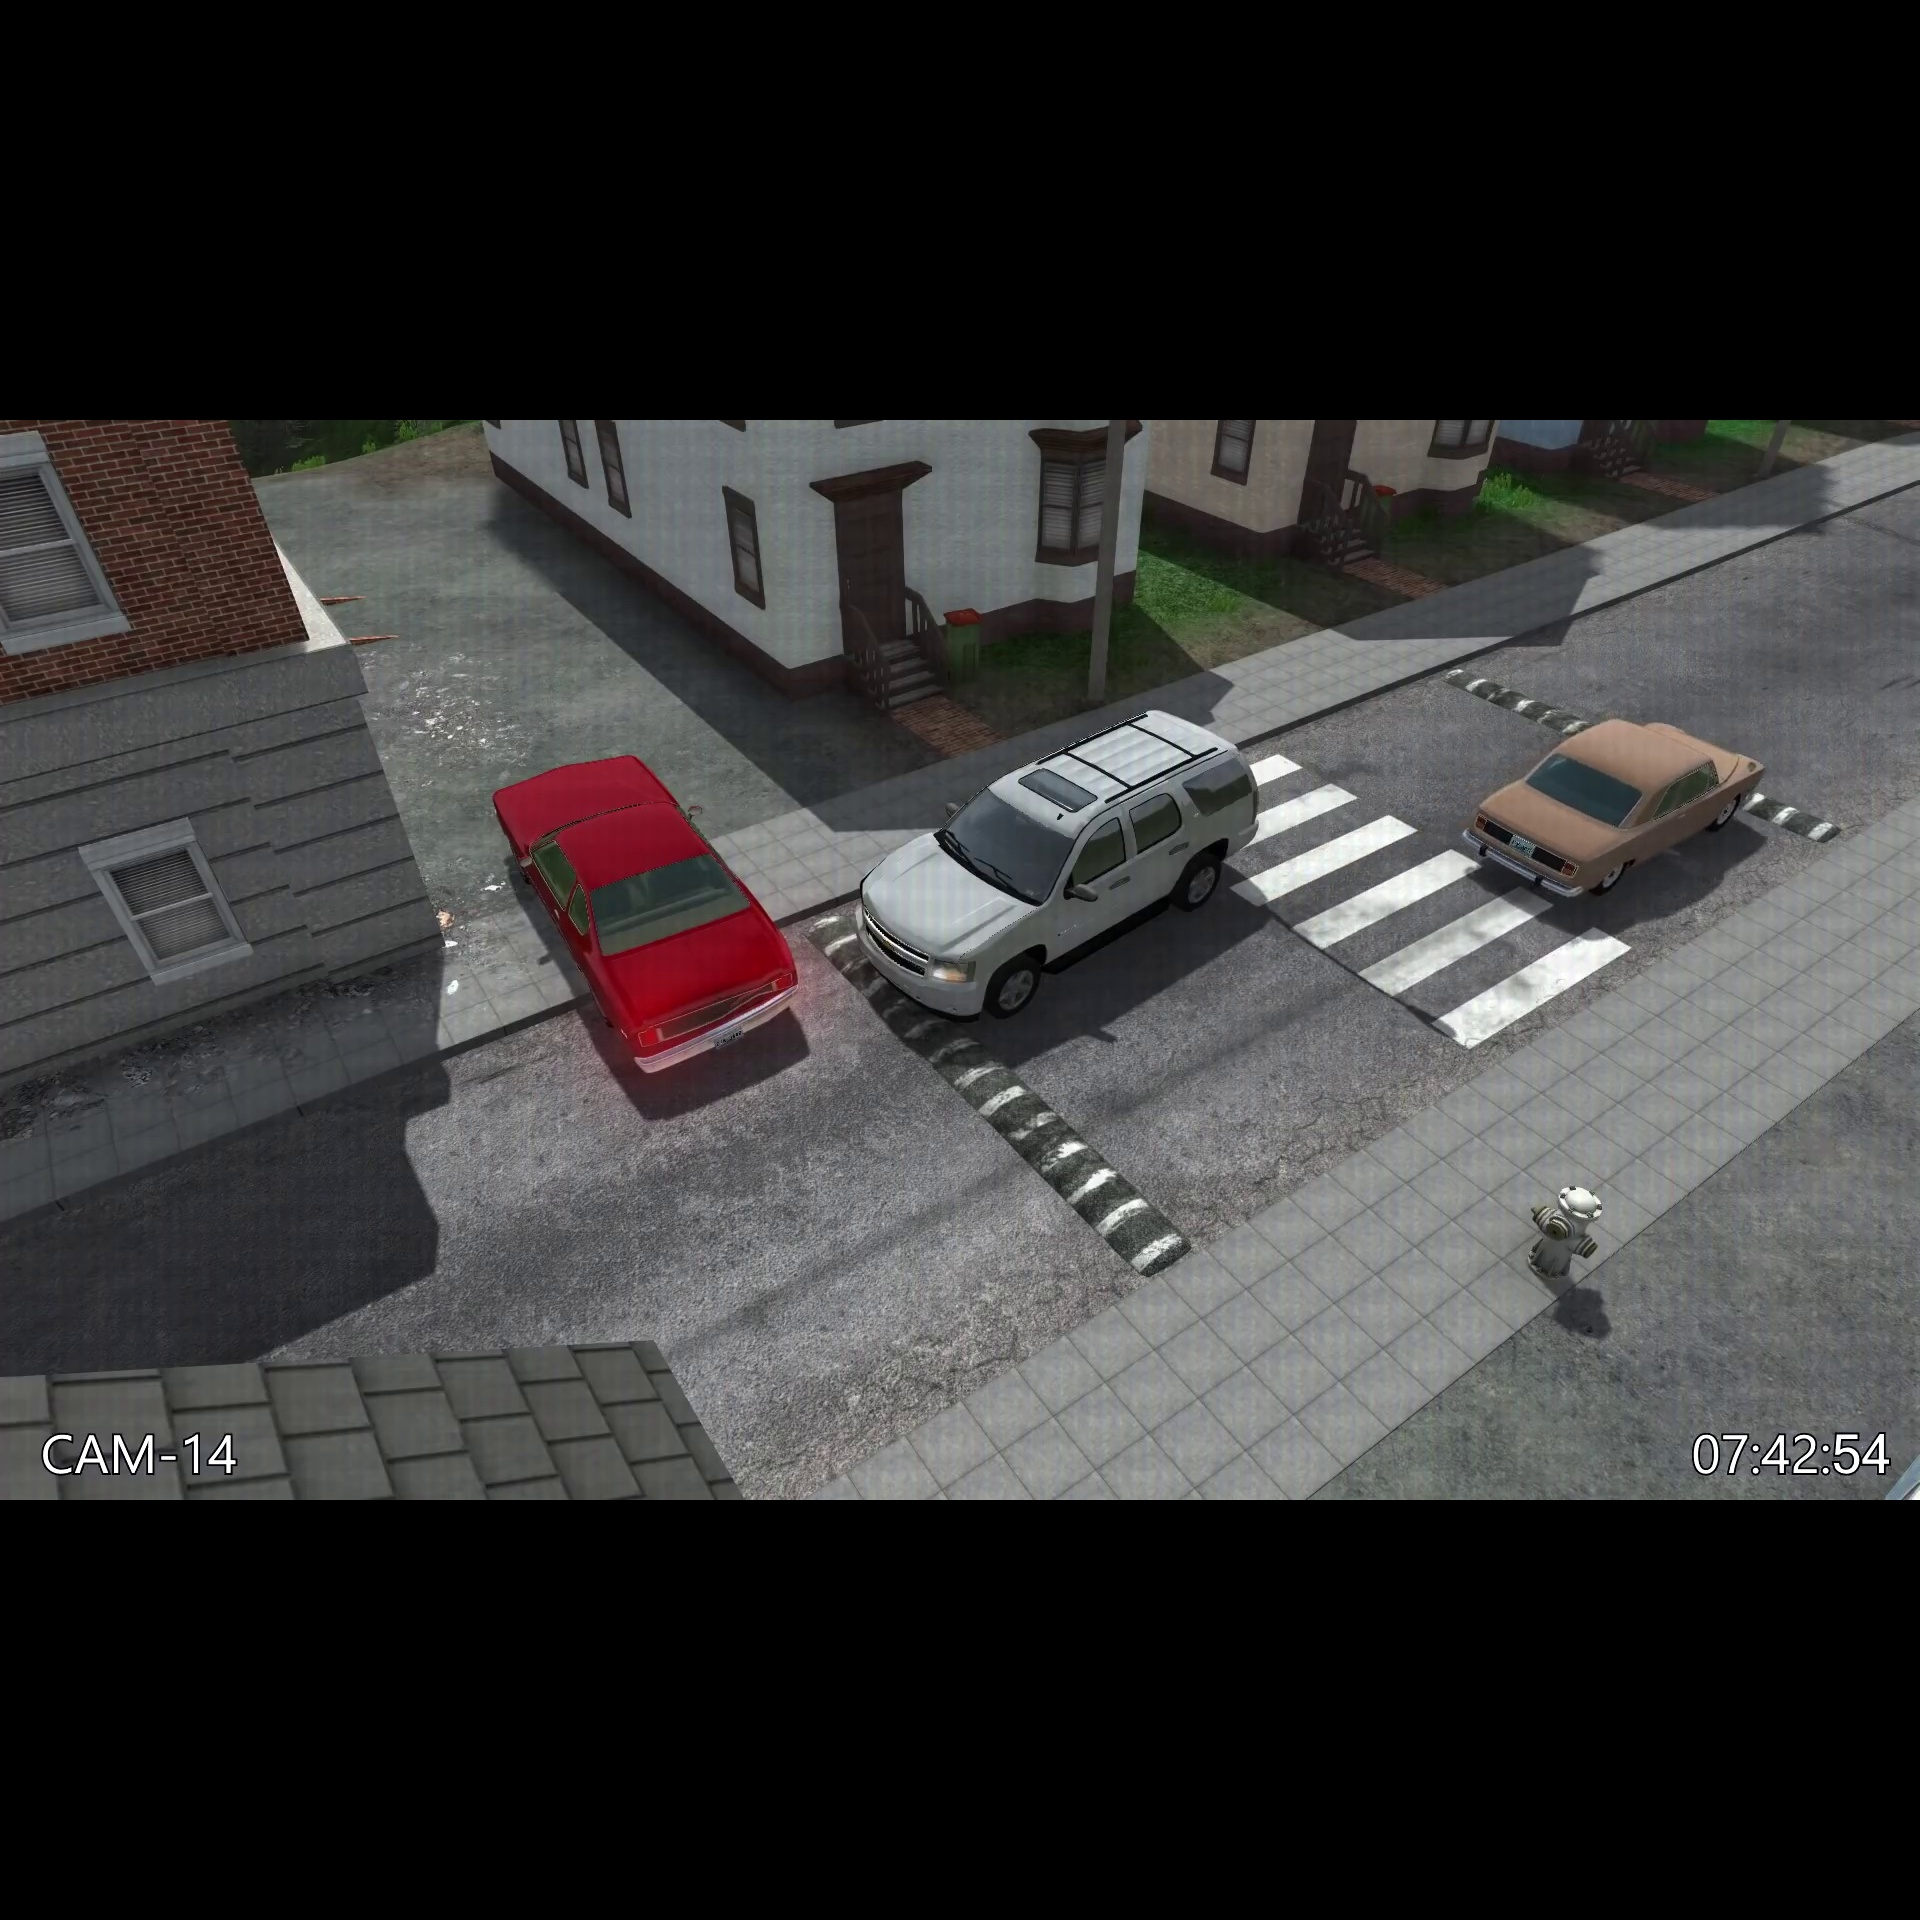vehicle: (847, 702, 1271, 1027), (482, 747, 807, 1094), (1459, 710, 1776, 918)
